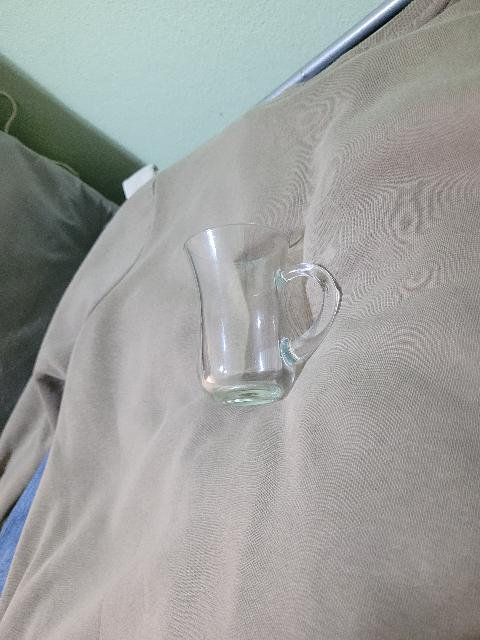Cam: (175, 222, 333, 411)
